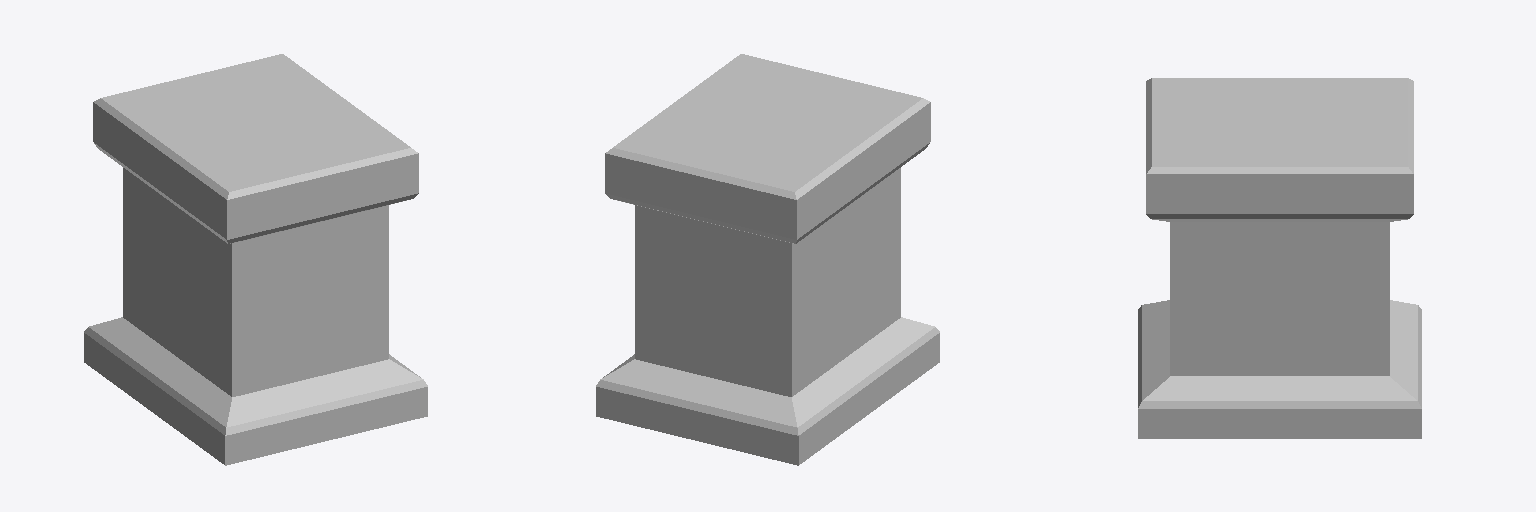
File: podium.obj
3 renders of one model, left to right at view 1: azimuth 30°, elevation 25°; view 2: azimuth 150°, elevation 25°; view 3: azimuth 270°, elevation 25°, orthographic.
Visible parts, largest first — view 1: podium timeMachine Hub; view 2: podium timeMachine Hub; view 3: podium timeMachine Hub.
Part boxes in pixels (left/top/right/bottom): podium timeMachine Hub: left=84, top=54, right=427, bottom=465; podium timeMachine Hub: left=596, top=54, right=939, bottom=465; podium timeMachine Hub: left=1138, top=78, right=1421, bottom=438.
Size of the model in its own units: 3.93 by 4.92 by 4.75.